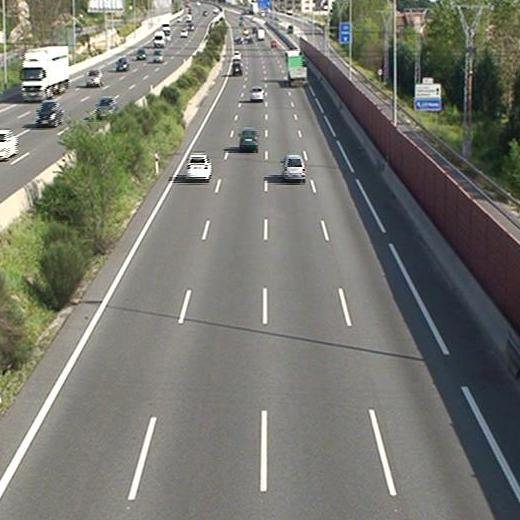car: (186, 154, 211, 178), (282, 156, 305, 179), (240, 128, 258, 150), (249, 87, 264, 99), (231, 61, 241, 76), (232, 50, 240, 60)
truck: (287, 50, 306, 87)
